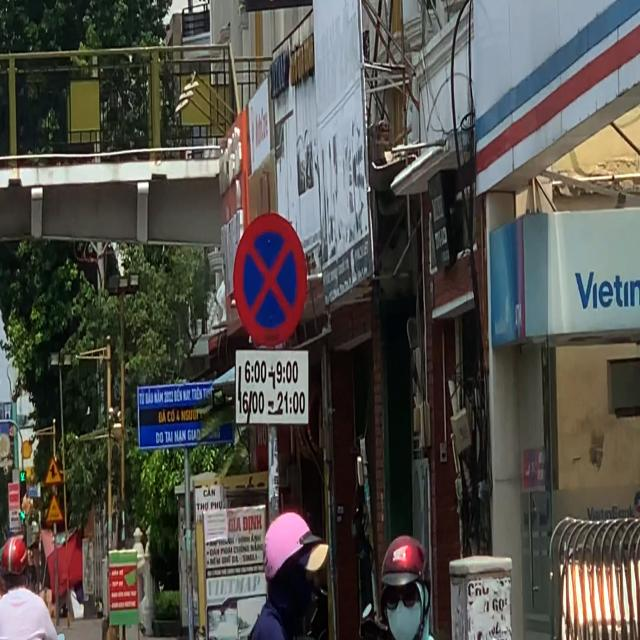Cam dung va do: (231, 208, 312, 352)
Giao voi duong khong uu tien: (41, 453, 63, 491)
Nguy hiem: (44, 492, 64, 528)
